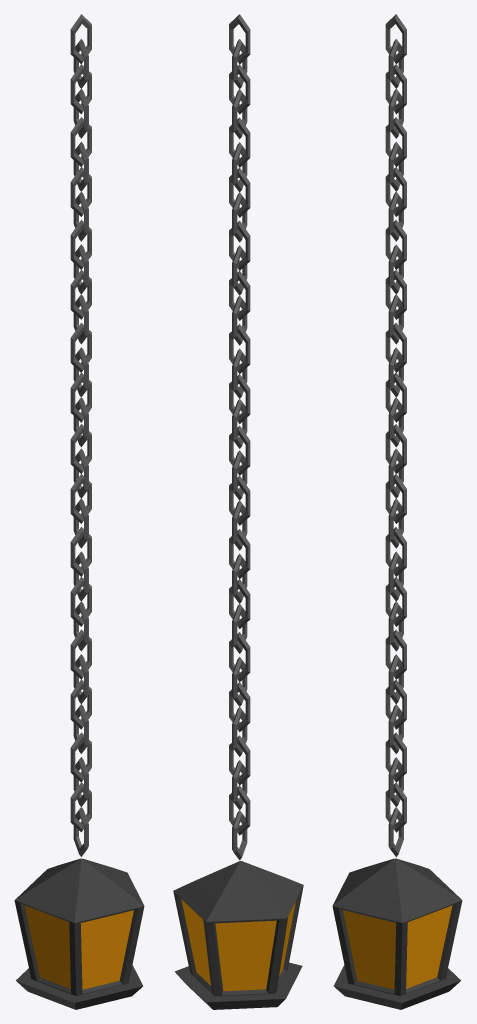
Rendered from hangingLamp.fbx.
3 renders of one model, left to right at view 1: azimuth 30°, elevation 25°; view 2: azimuth 150°, elevation 25°; view 3: azimuth 330°, elevation 25°, orthographic.
Parts seen in each view (by area): view 1: hangingLamp.030; view 2: hangingLamp.030; view 3: hangingLamp.030.
Part boxes in pixels (x1=…): hangingLamp.030: x1=14, y1=14, x2=144, y2=1009; hangingLamp.030: x1=173, y1=14, x2=303, y2=1009; hangingLamp.030: x1=332, y1=14, x2=462, y2=1009.
Bounding box in the file's own units: 83.24 × 683 × 79.16.
1 material, 1 textured.
